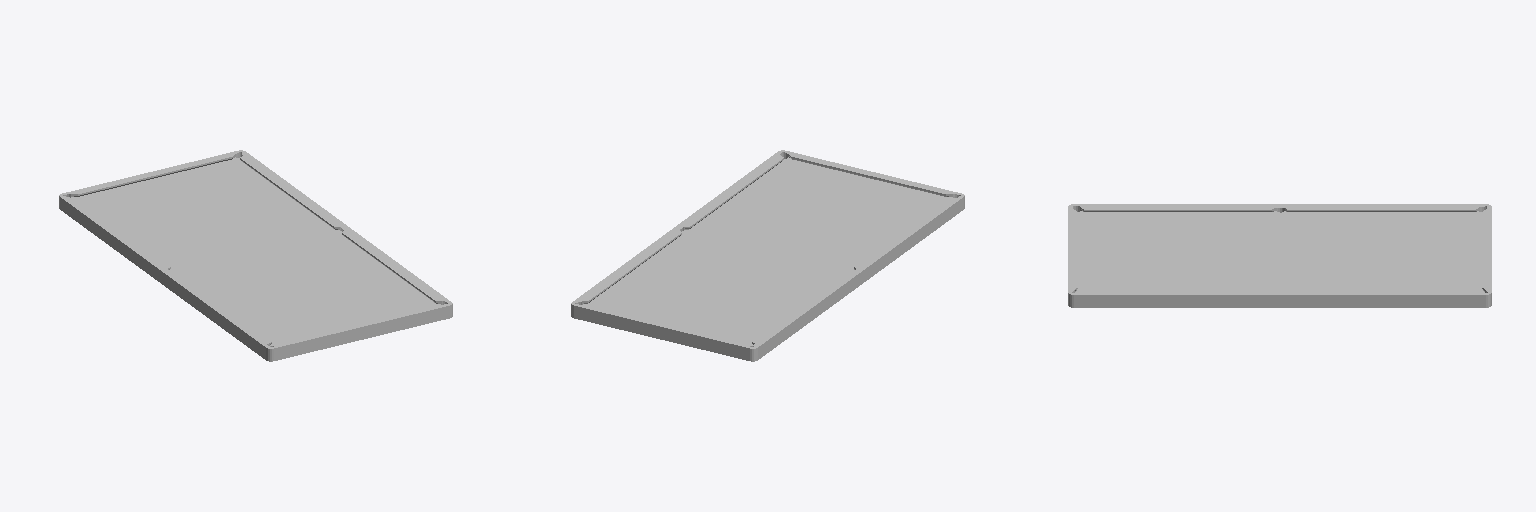
Rendered from table_snooker [table].obj.
3 views of the same model, side by side, from view 1: azimuth 30°, elevation 25°; view 2: azimuth 150°, elevation 25°; view 3: azimuth 270°, elevation 25° (orthographic).
Parts seen in each view (by area): view 1: table_Cube.002; view 2: table_Cube.002; view 3: table_Cube.002.
Boxes of the visible parts, box(x1,y1,x2,y2) form: table_Cube.002: box(59, 150, 452, 361); table_Cube.002: box(571, 150, 964, 361); table_Cube.002: box(1068, 204, 1491, 307).
Bounding box in the file's own units: 1.88 × 0.124 × 3.71.